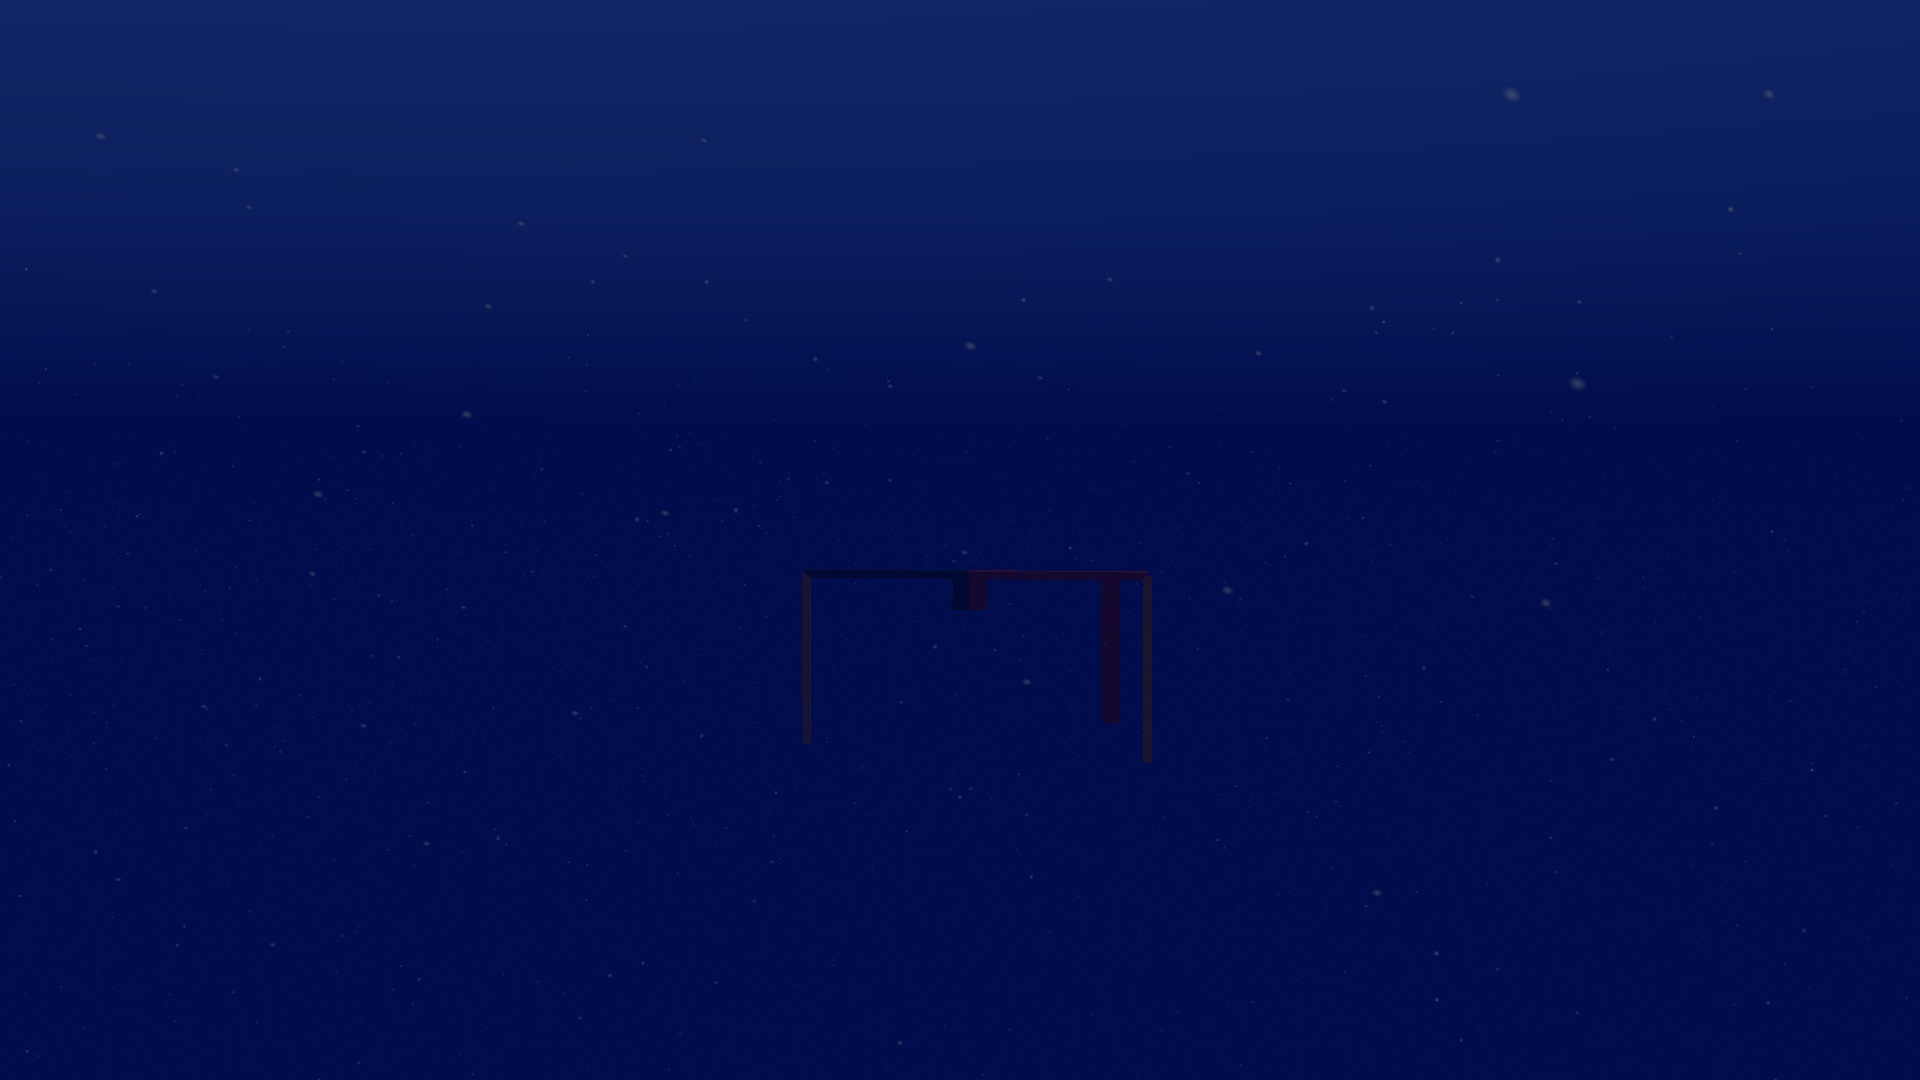Gate: (791, 560, 1159, 775)
